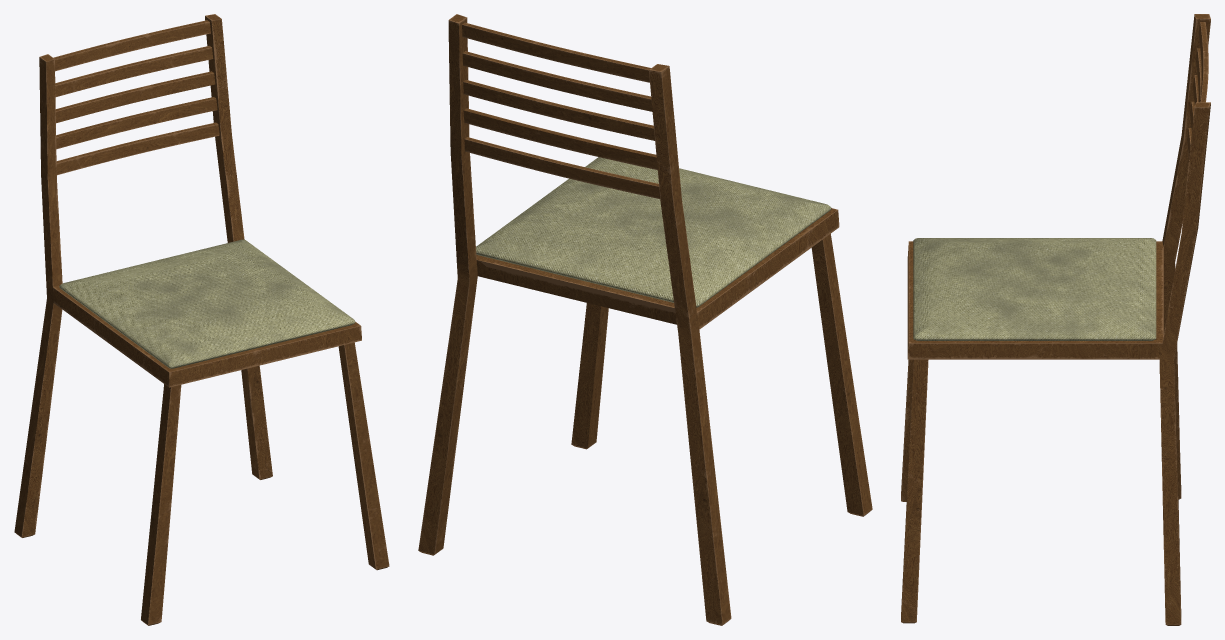
Rendered from chair.fbx.
3 views of the same model, side by side, from view 1: azimuth 30°, elevation 25°; view 2: azimuth 150°, elevation 25°; view 3: azimuth 270°, elevation 25° (orthographic). The views are drawn at different scales.
Parts seen in each view (by area): view 1: chair; view 2: chair; view 3: chair.
Part boxes in pixels (x1=…): chair: x1=14, y1=14, x2=389, y2=625; chair: x1=418, y1=14, x2=872, y2=625; chair: x1=901, y1=14, x2=1210, y2=625.
Bounding box in the file's own units: 44.91 × 78.33 × 44.06.
Materials: 1 (1 with a texture image).
